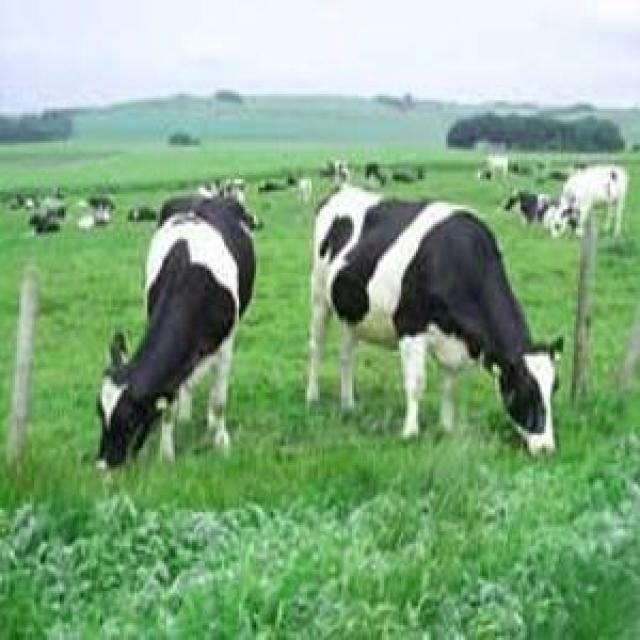cow: (308, 186, 560, 452), (96, 184, 256, 468)
